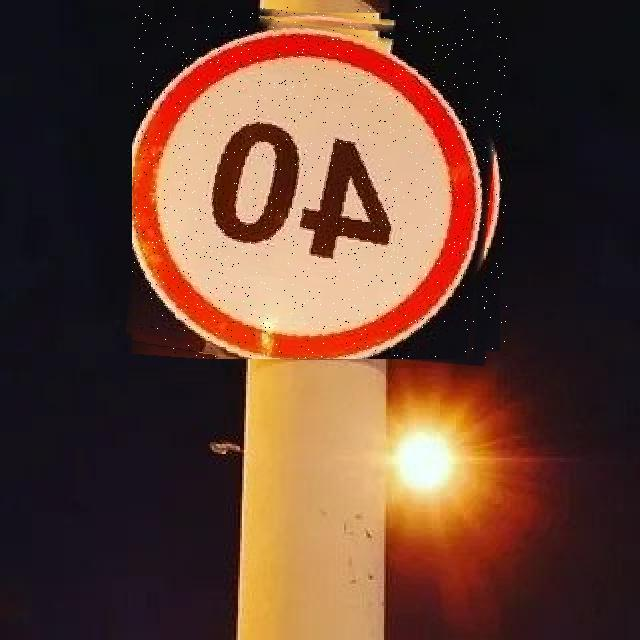speed limit 40: (132, 6, 507, 359)
